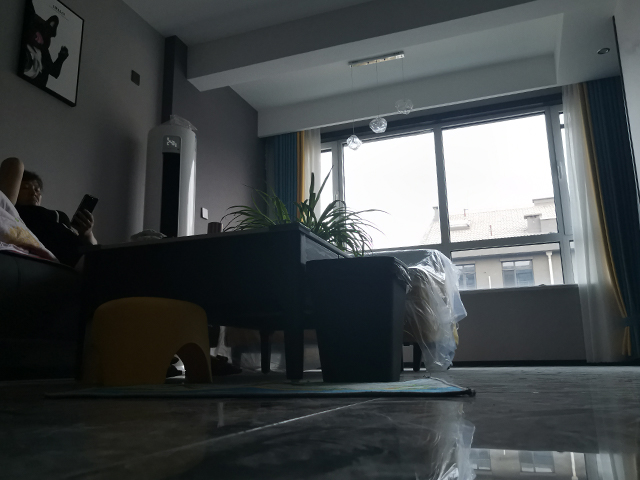carpet: (41, 373, 478, 402)
curtain: (561, 74, 640, 368)
stool: (75, 293, 216, 389)
table: (70, 218, 358, 388)
trashcan: (302, 254, 413, 384)
